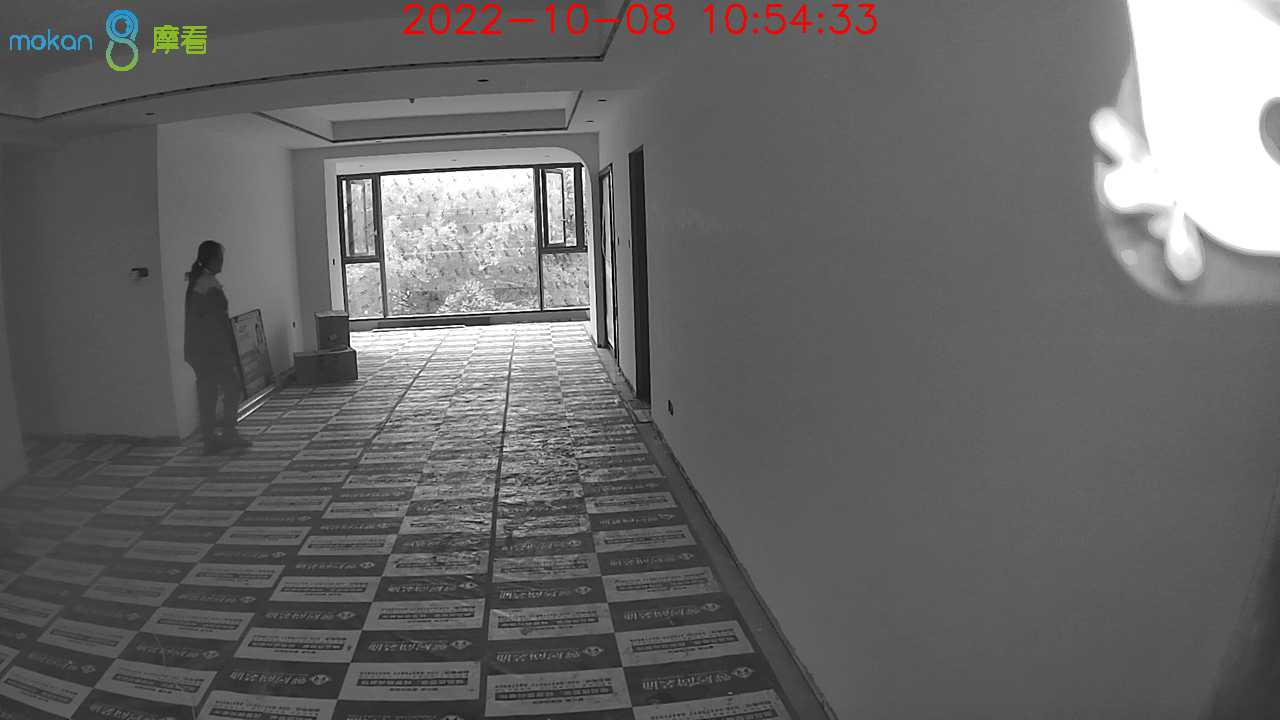people: (186, 242, 253, 451)
window: (338, 167, 602, 318)
